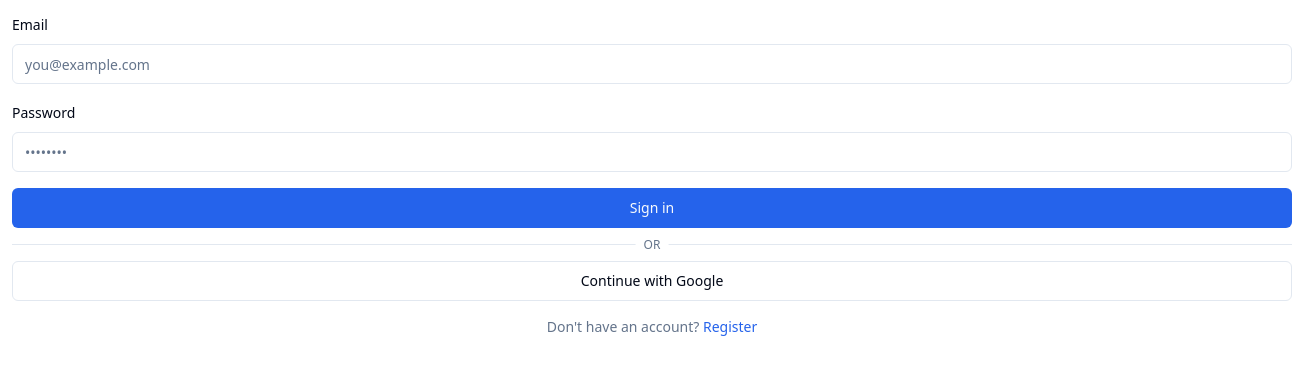
LoginForm › shows error when password is empty
The width and height of the screenshot is (1304, 381).
Type "test@example.com" into the field with placeholder "you@example.com" at (652, 64), box [12,44,1292,84]
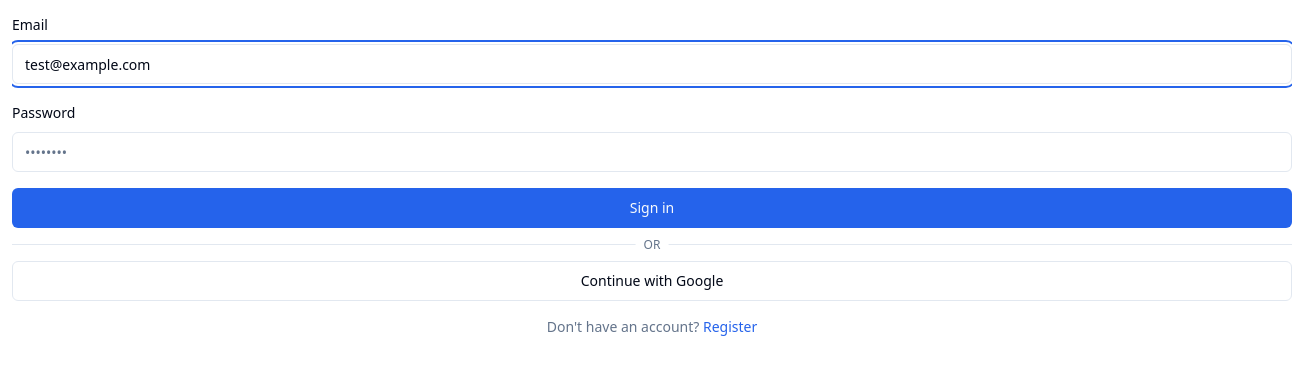
Click the button "Sign in" at (652, 208), box [12,188,1292,228]
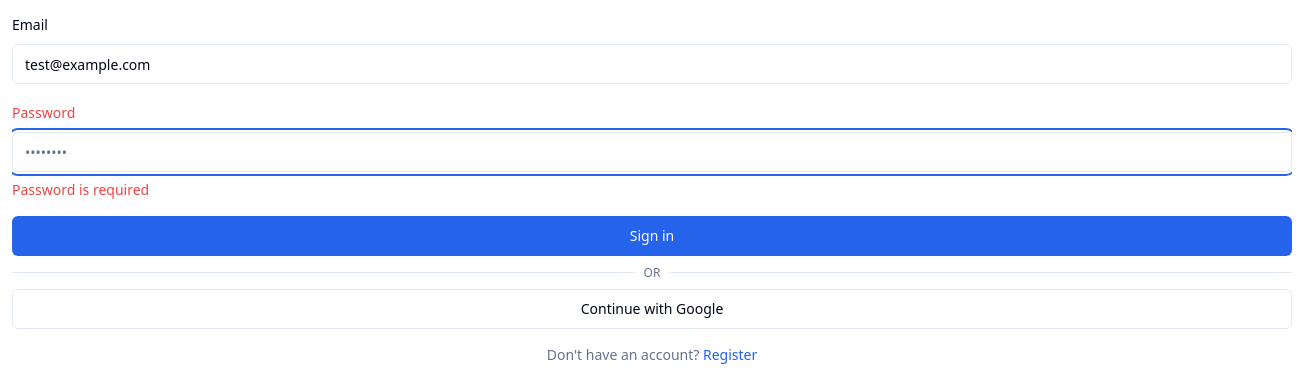
Expected: the text "Password is required" is shown, [12,180,149,199]
